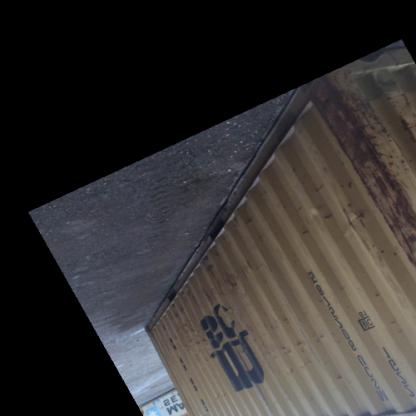Damage: (321, 82, 408, 194), (194, 260, 252, 316), (336, 194, 372, 257), (178, 321, 216, 362), (329, 372, 346, 390)
